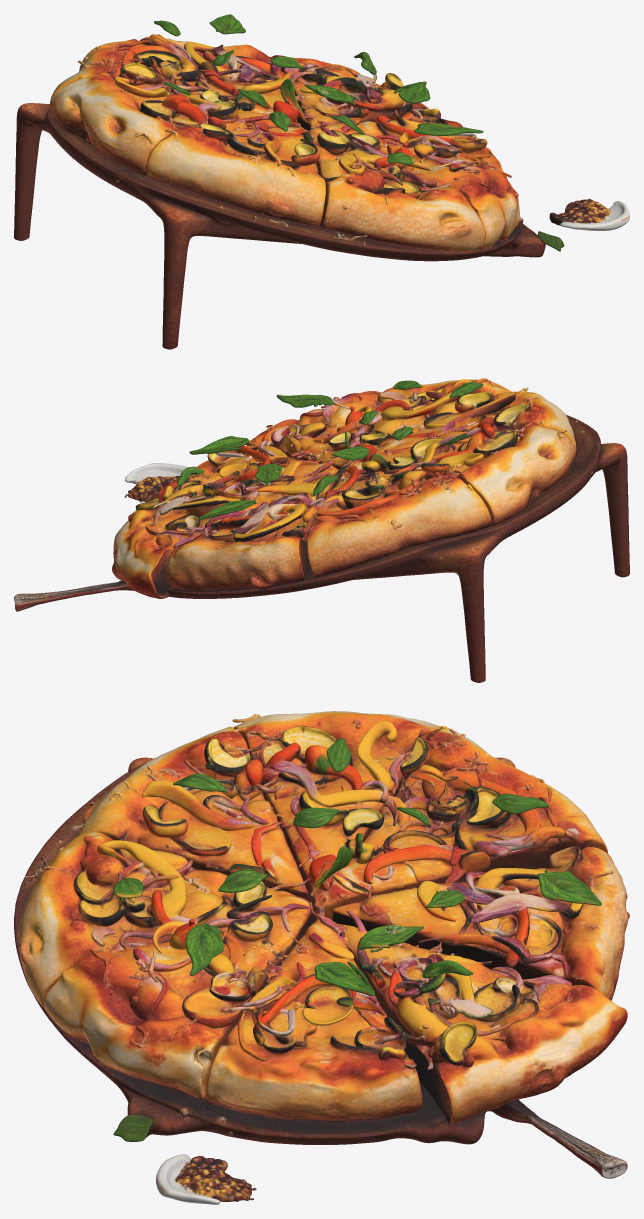
File: 191492c0-b3b3-4bf0-8c1f-2d4fde3bbee8_(1).glb
The picture shows the model from 3 angles, top to bottom: view 1: azimuth 30°, elevation 25°; view 2: azimuth 150°, elevation 25°; view 3: azimuth 270°, elevation 25°; orthographic projection. The views are drawn at different scales.
Parts seen in each view (by area): view 1: tripo_node_e4ae4256-759c-436c-a72e-273c418ca8dd; view 2: tripo_node_e4ae4256-759c-436c-a72e-273c418ca8dd; view 3: tripo_node_e4ae4256-759c-436c-a72e-273c418ca8dd.
Part boxes in pixels (left/top/right/bottom): tripo_node_e4ae4256-759c-436c-a72e-273c418ca8dd: left=14, top=14, right=629, bottom=349; tripo_node_e4ae4256-759c-436c-a72e-273c418ca8dd: left=14, top=378, right=629, bottom=682; tripo_node_e4ae4256-759c-436c-a72e-273c418ca8dd: left=14, top=711, right=629, bottom=1204.
Bounding box in the file's own units: 1 × 0.3597 × 0.8722.
Materials: 1 (1 with a texture image).
